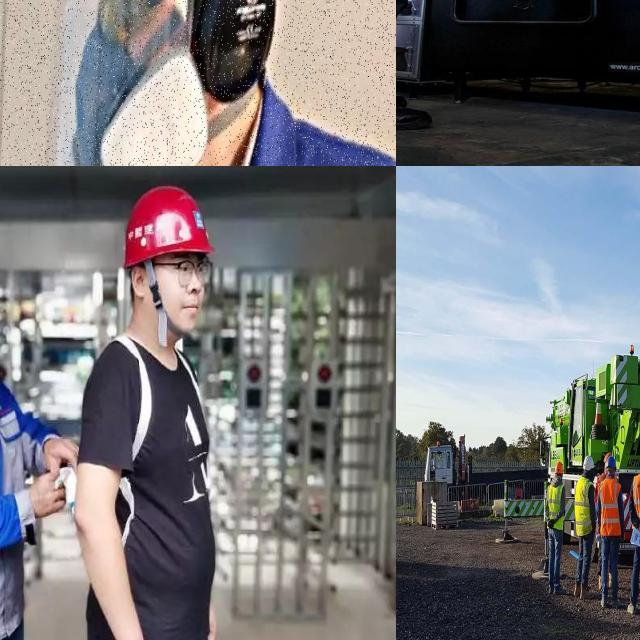Ear-protection: (192, 0, 280, 125)
No_Ear-Protection: (117, 232, 221, 366)
glasses: (75, 0, 201, 56)
head_helmet: (582, 455, 594, 473), (605, 454, 617, 472), (555, 462, 563, 476)
person: (0, 0, 396, 166), (396, 0, 475, 131), (598, 457, 622, 608), (546, 462, 568, 596), (574, 455, 594, 600), (626, 444, 640, 617)
shoes: (396, 83, 440, 136), (553, 583, 568, 598), (579, 586, 595, 600), (626, 598, 636, 616), (599, 594, 608, 612), (610, 595, 622, 608)
vest: (597, 477, 623, 538), (574, 476, 594, 540), (546, 481, 567, 531), (631, 468, 640, 529)
